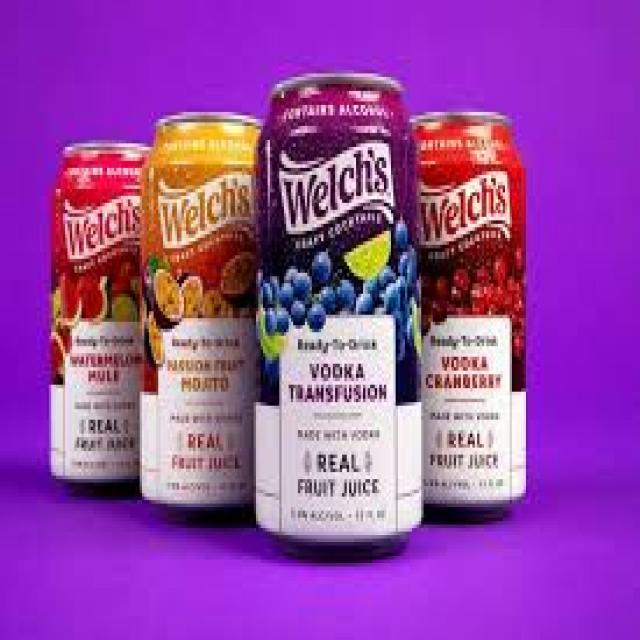Cans: (247, 67, 428, 560), (135, 109, 261, 518), (414, 102, 538, 514), (42, 130, 142, 497)
